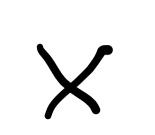mult: (37, 44, 113, 119)
